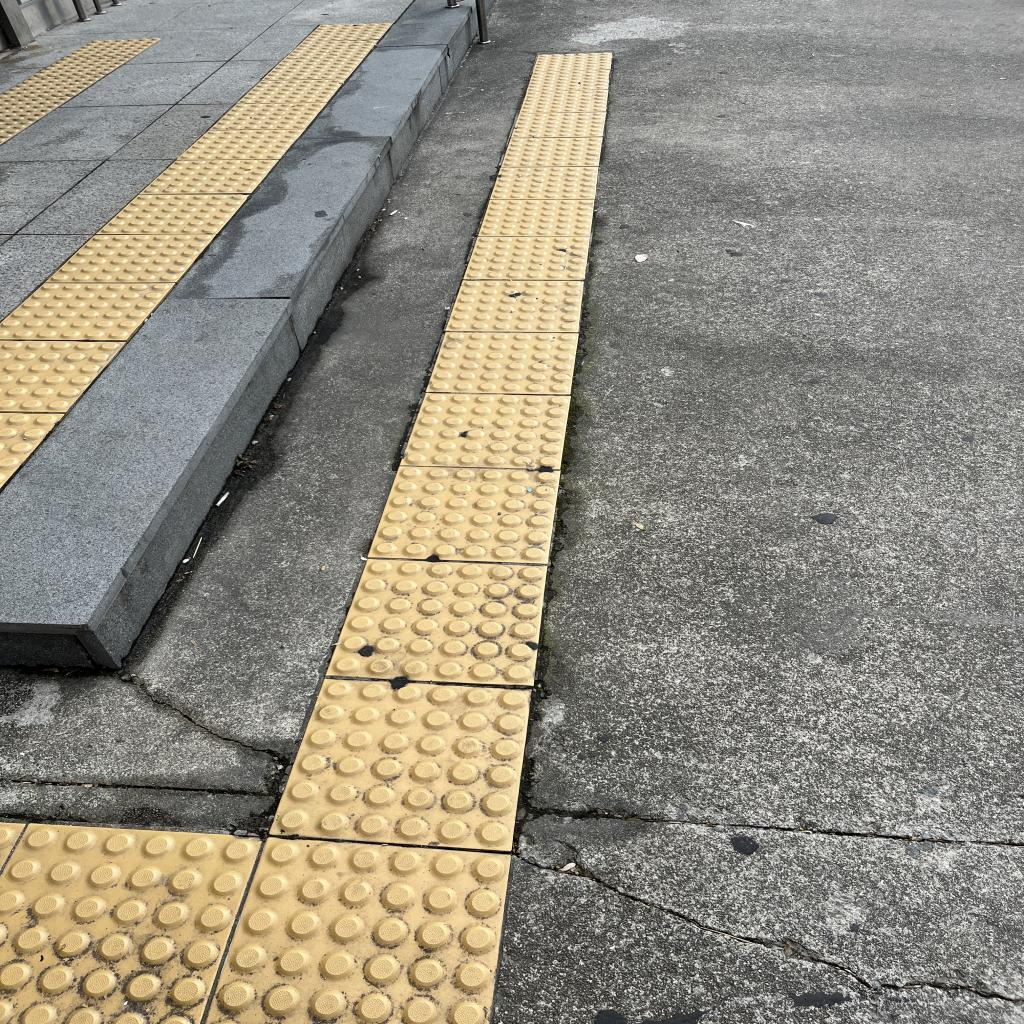Stop block normal: (271, 676, 529, 849), (370, 466, 559, 563), (428, 333, 577, 393), (502, 137, 602, 166)
